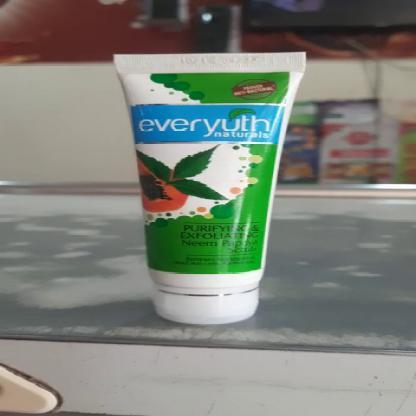EY_SCR_PURIFYING_EXFOLTNG_NEEM_PAPAYA_50G: (105, 53, 299, 326)
